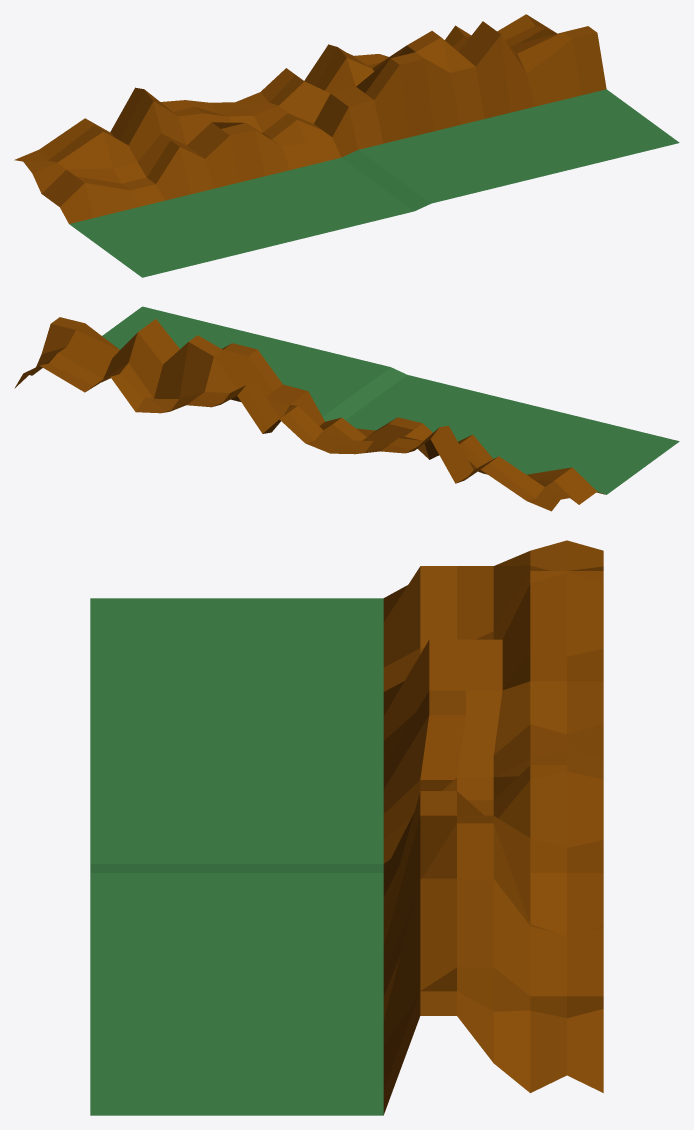
The model's file is SM_BackGroundLandScape.fbx.
The picture shows the model from 3 angles, top to bottom: view 1: azimuth 30°, elevation 25°; view 2: azimuth 150°, elevation 25°; view 3: azimuth 270°, elevation 25°; orthographic projection. The views are drawn at different scales.
Parts seen in each view (by area): view 1: SM_BackGroundLandScape; view 2: SM_BackGroundLandScape; view 3: SM_BackGroundLandScape.
Part boxes in pixels (left/top/right/bottom): SM_BackGroundLandScape: left=14, top=14, right=679, bottom=277; SM_BackGroundLandScape: left=14, top=306, right=679, bottom=511; SM_BackGroundLandScape: left=90, top=540, right=603, bottom=1115.
Size of the model in its own units: 18851 by 2615 by 7795.
